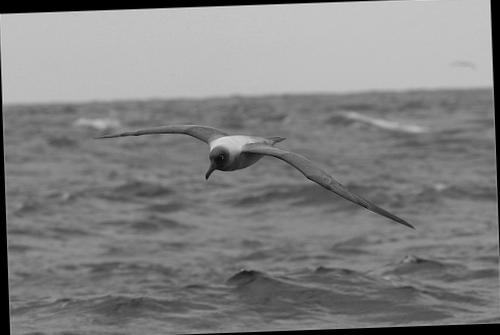bird: (82, 113, 426, 249)
